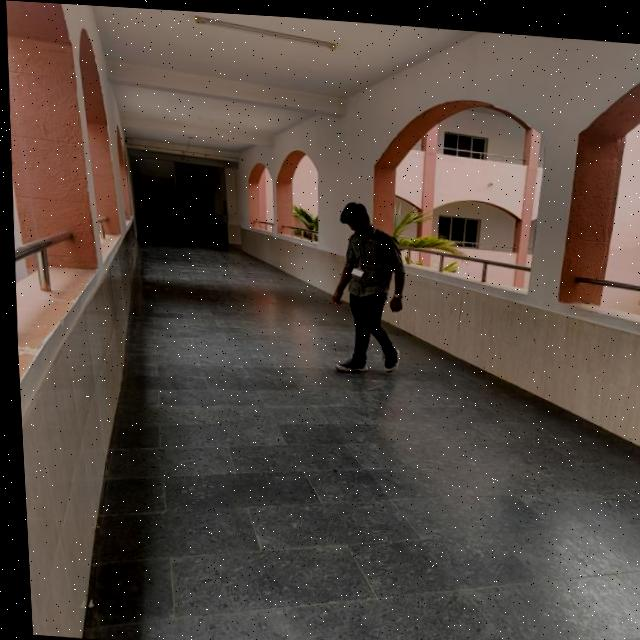id_card: (342, 231, 368, 274)
